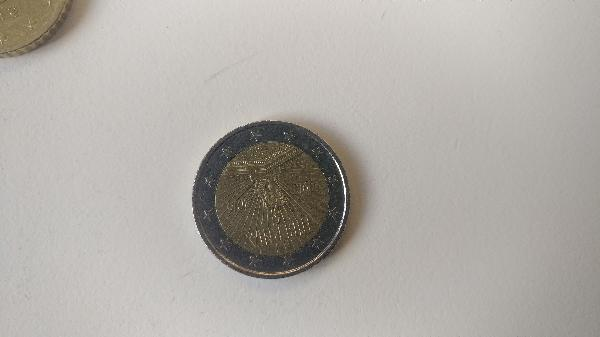Fifty Cent: (5, 1, 85, 65)
Two Euro: (191, 117, 362, 283)
